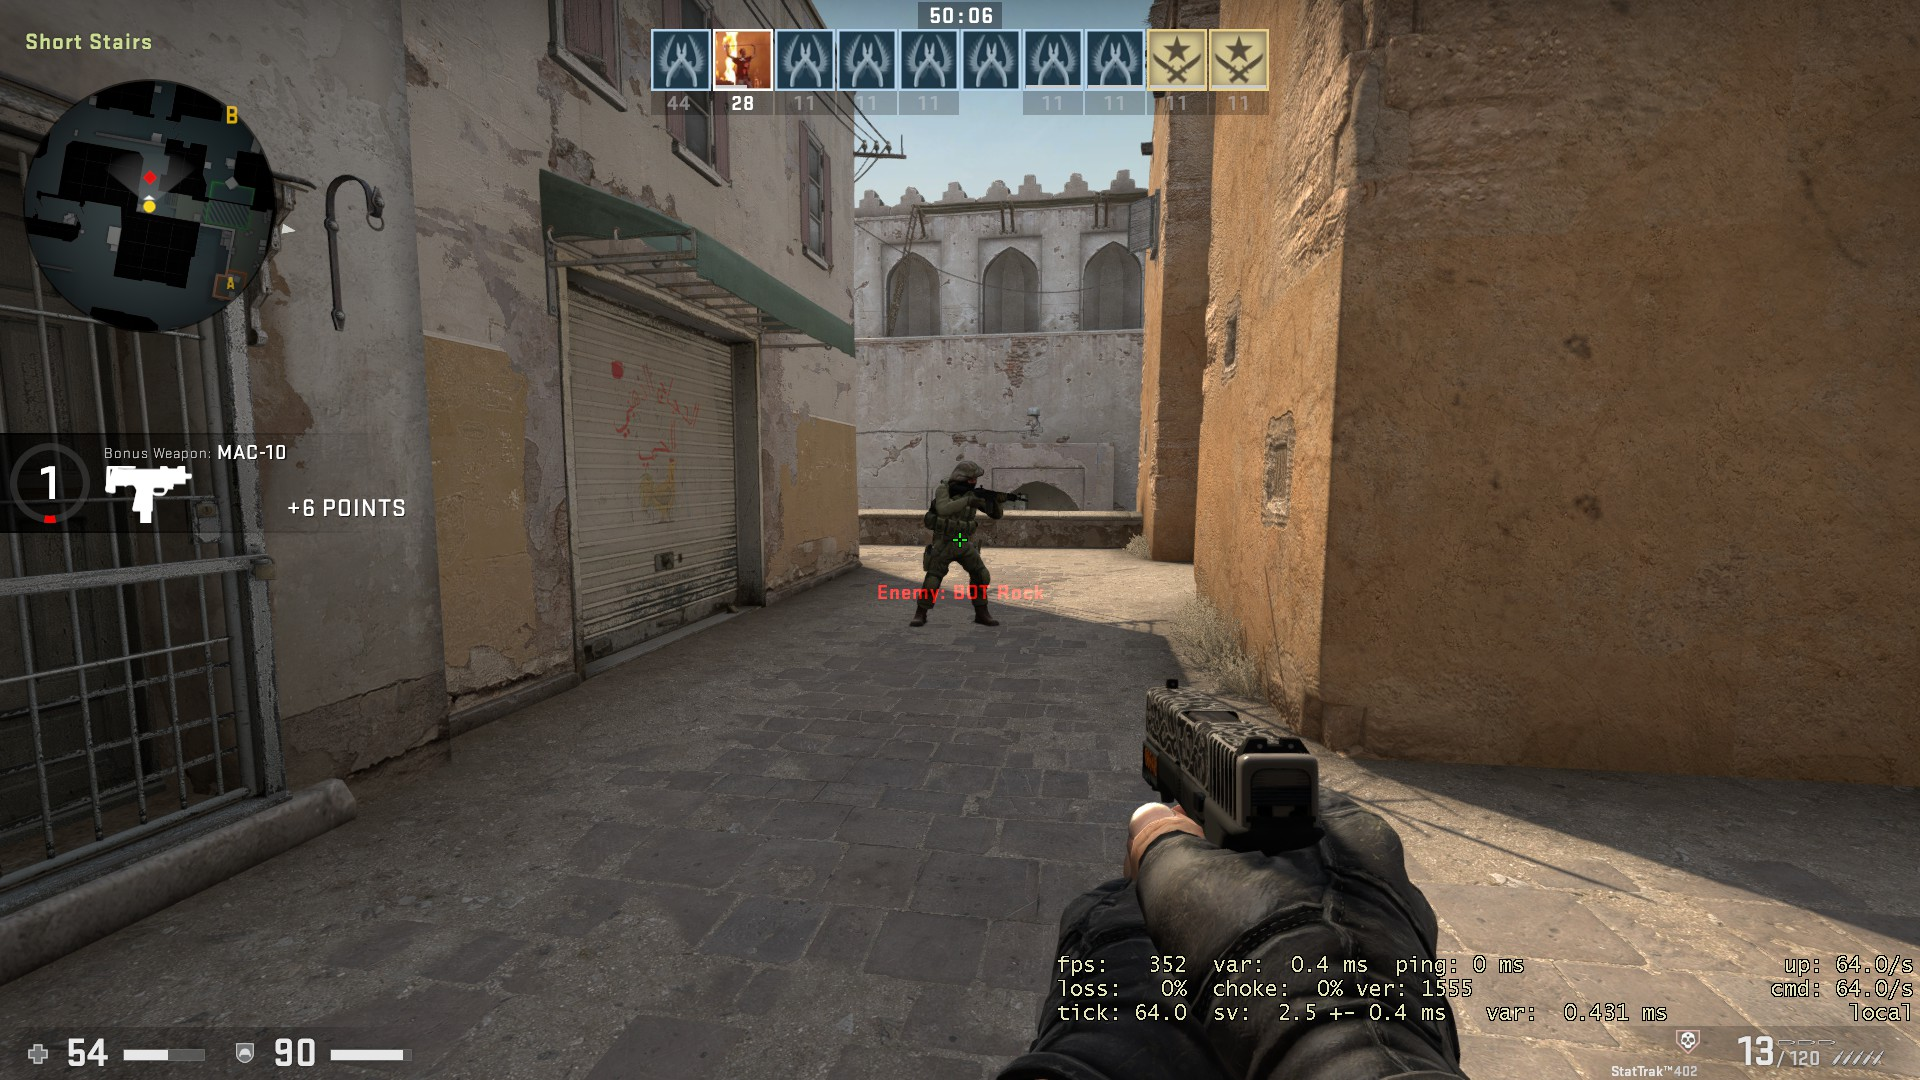player: (898, 454, 1031, 635)
